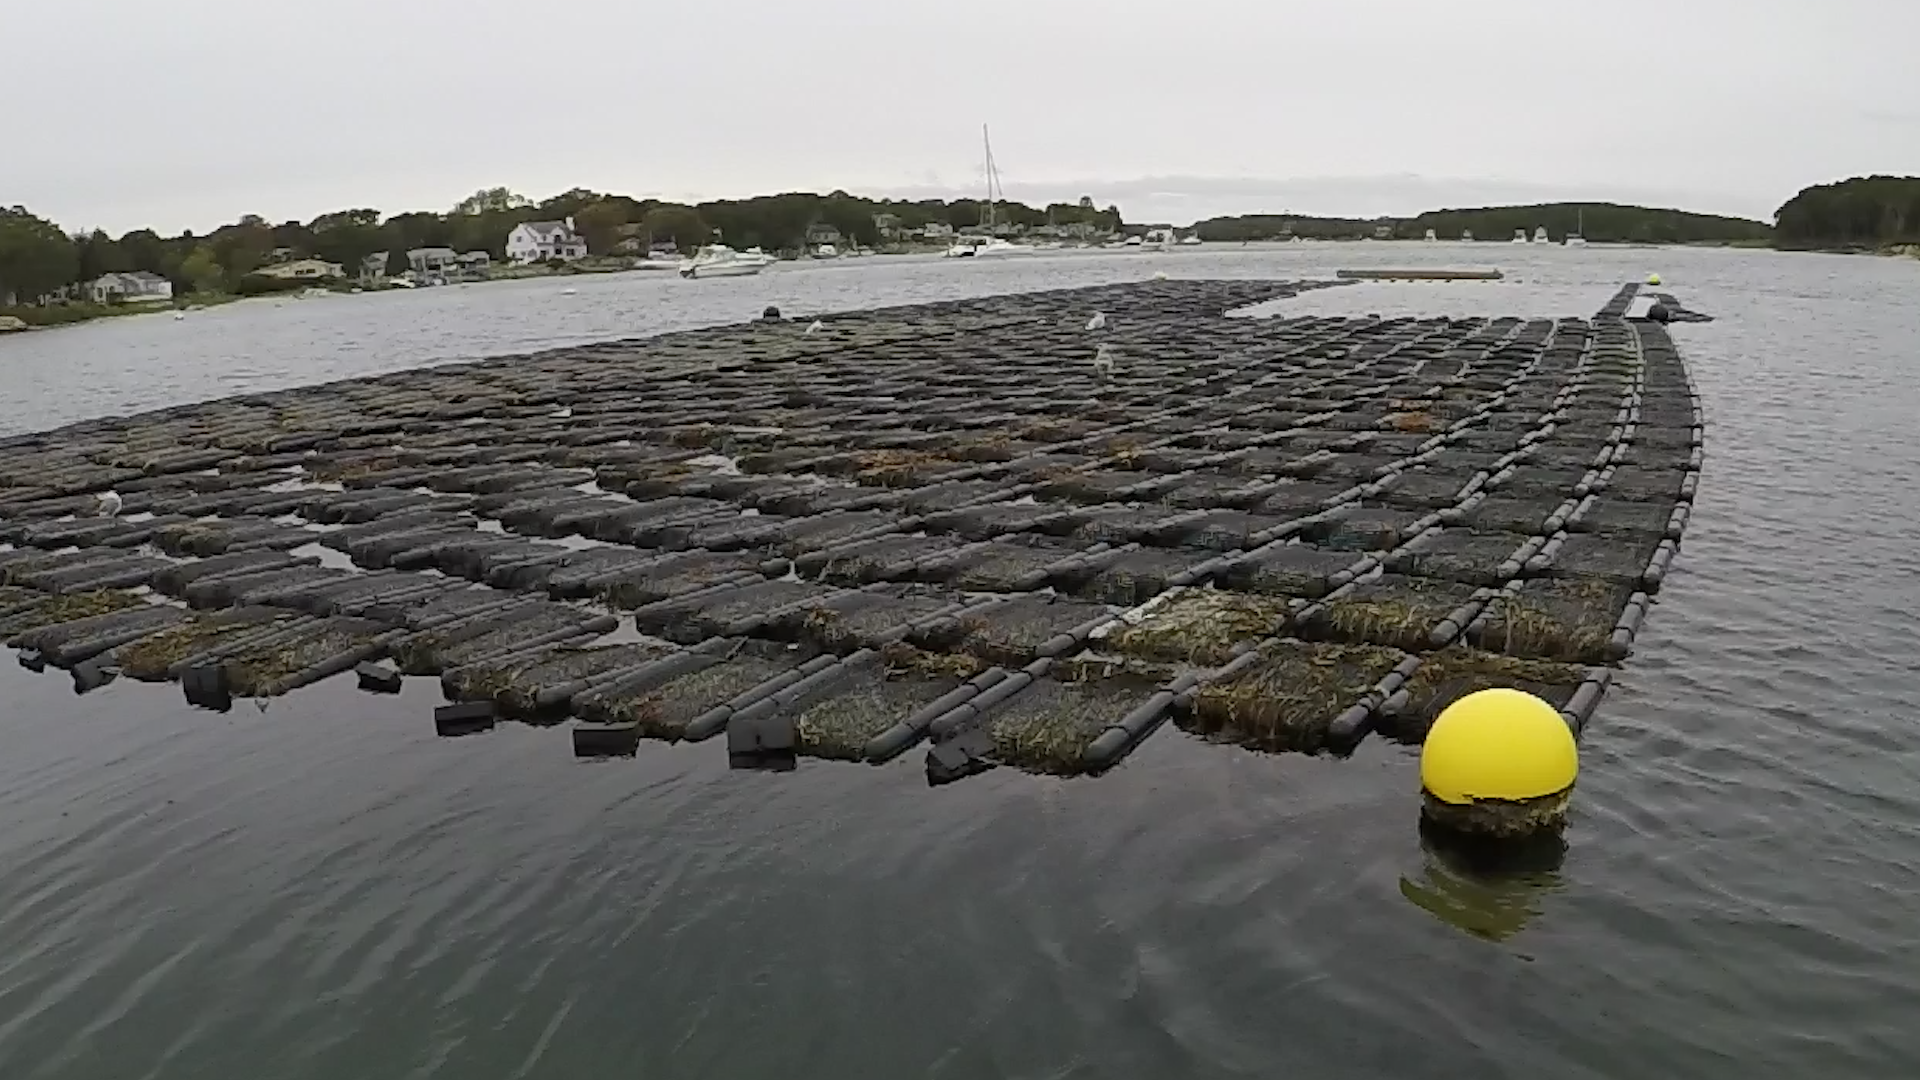bag: (724, 626, 996, 777), (927, 645, 1183, 785), (1174, 636, 1420, 761)
